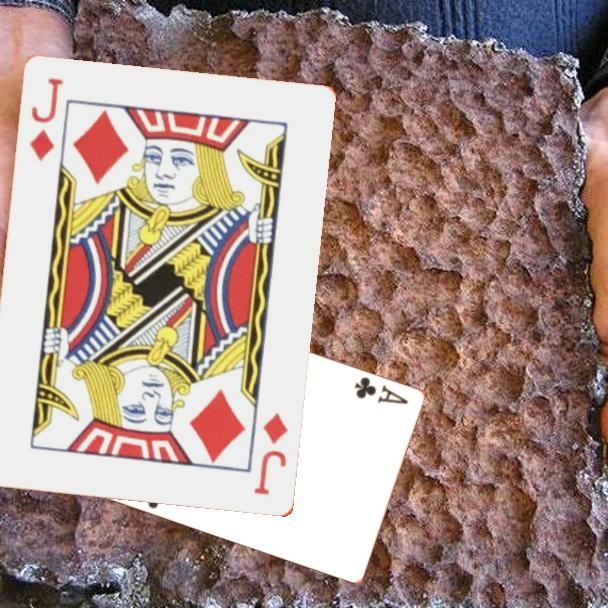c01: (351, 373, 411, 407)
d11: (26, 75, 67, 164), (251, 410, 291, 498)
